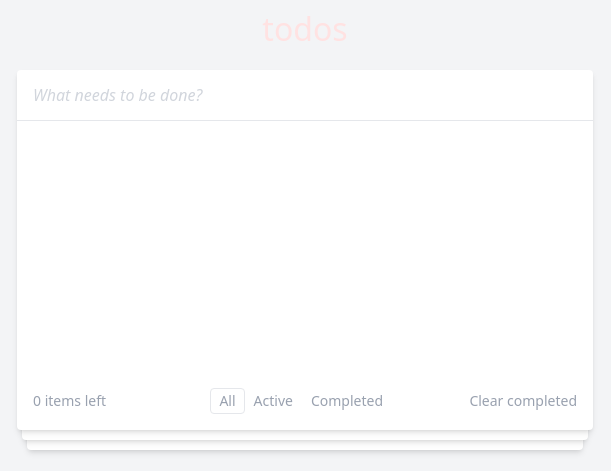
it: Todo App › 4. Удаляет завершённые задачи
Type "Завершенная задача" into the field with placeholder "What needs to be done?" at (305, 95), box [17,70,593,121]
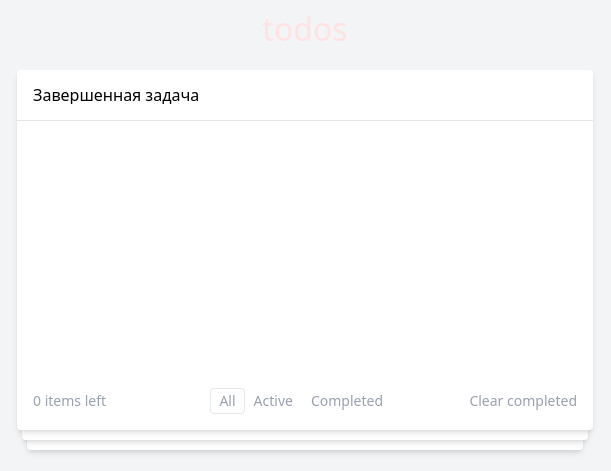
Submit the form with test id "todo-form", box [17,70,593,121]
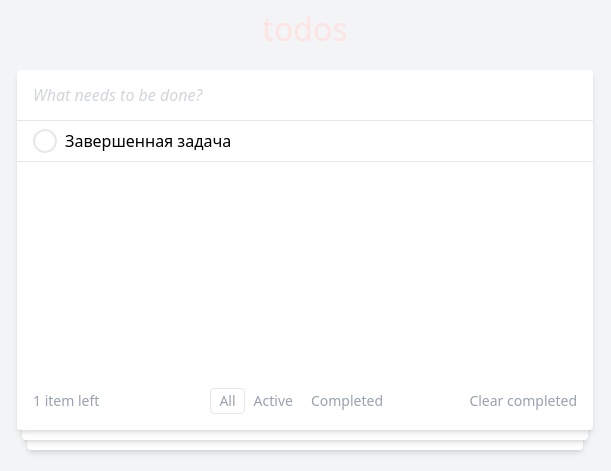
Click the list item "Завершенная задача" at (305, 142), box [17,121,593,162]
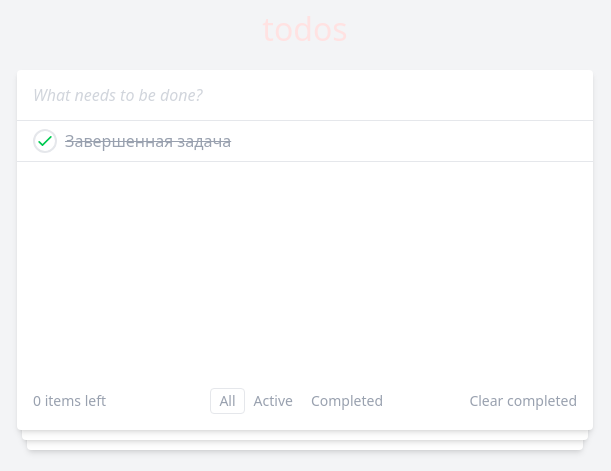
Click the button "Clear completed" at (523, 401), box [469,393,577,409]
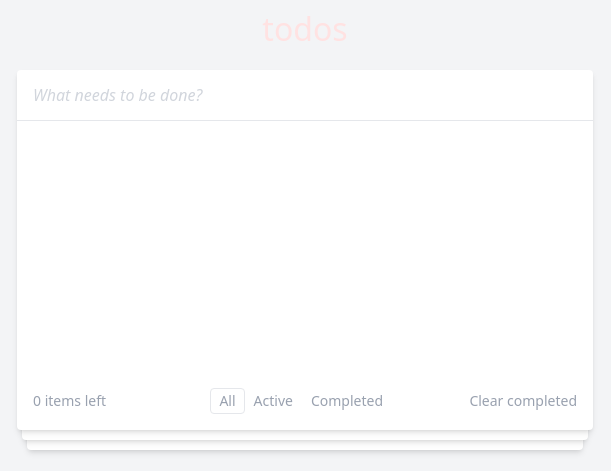
Expected: the list item "Завершенная задача" is gone
